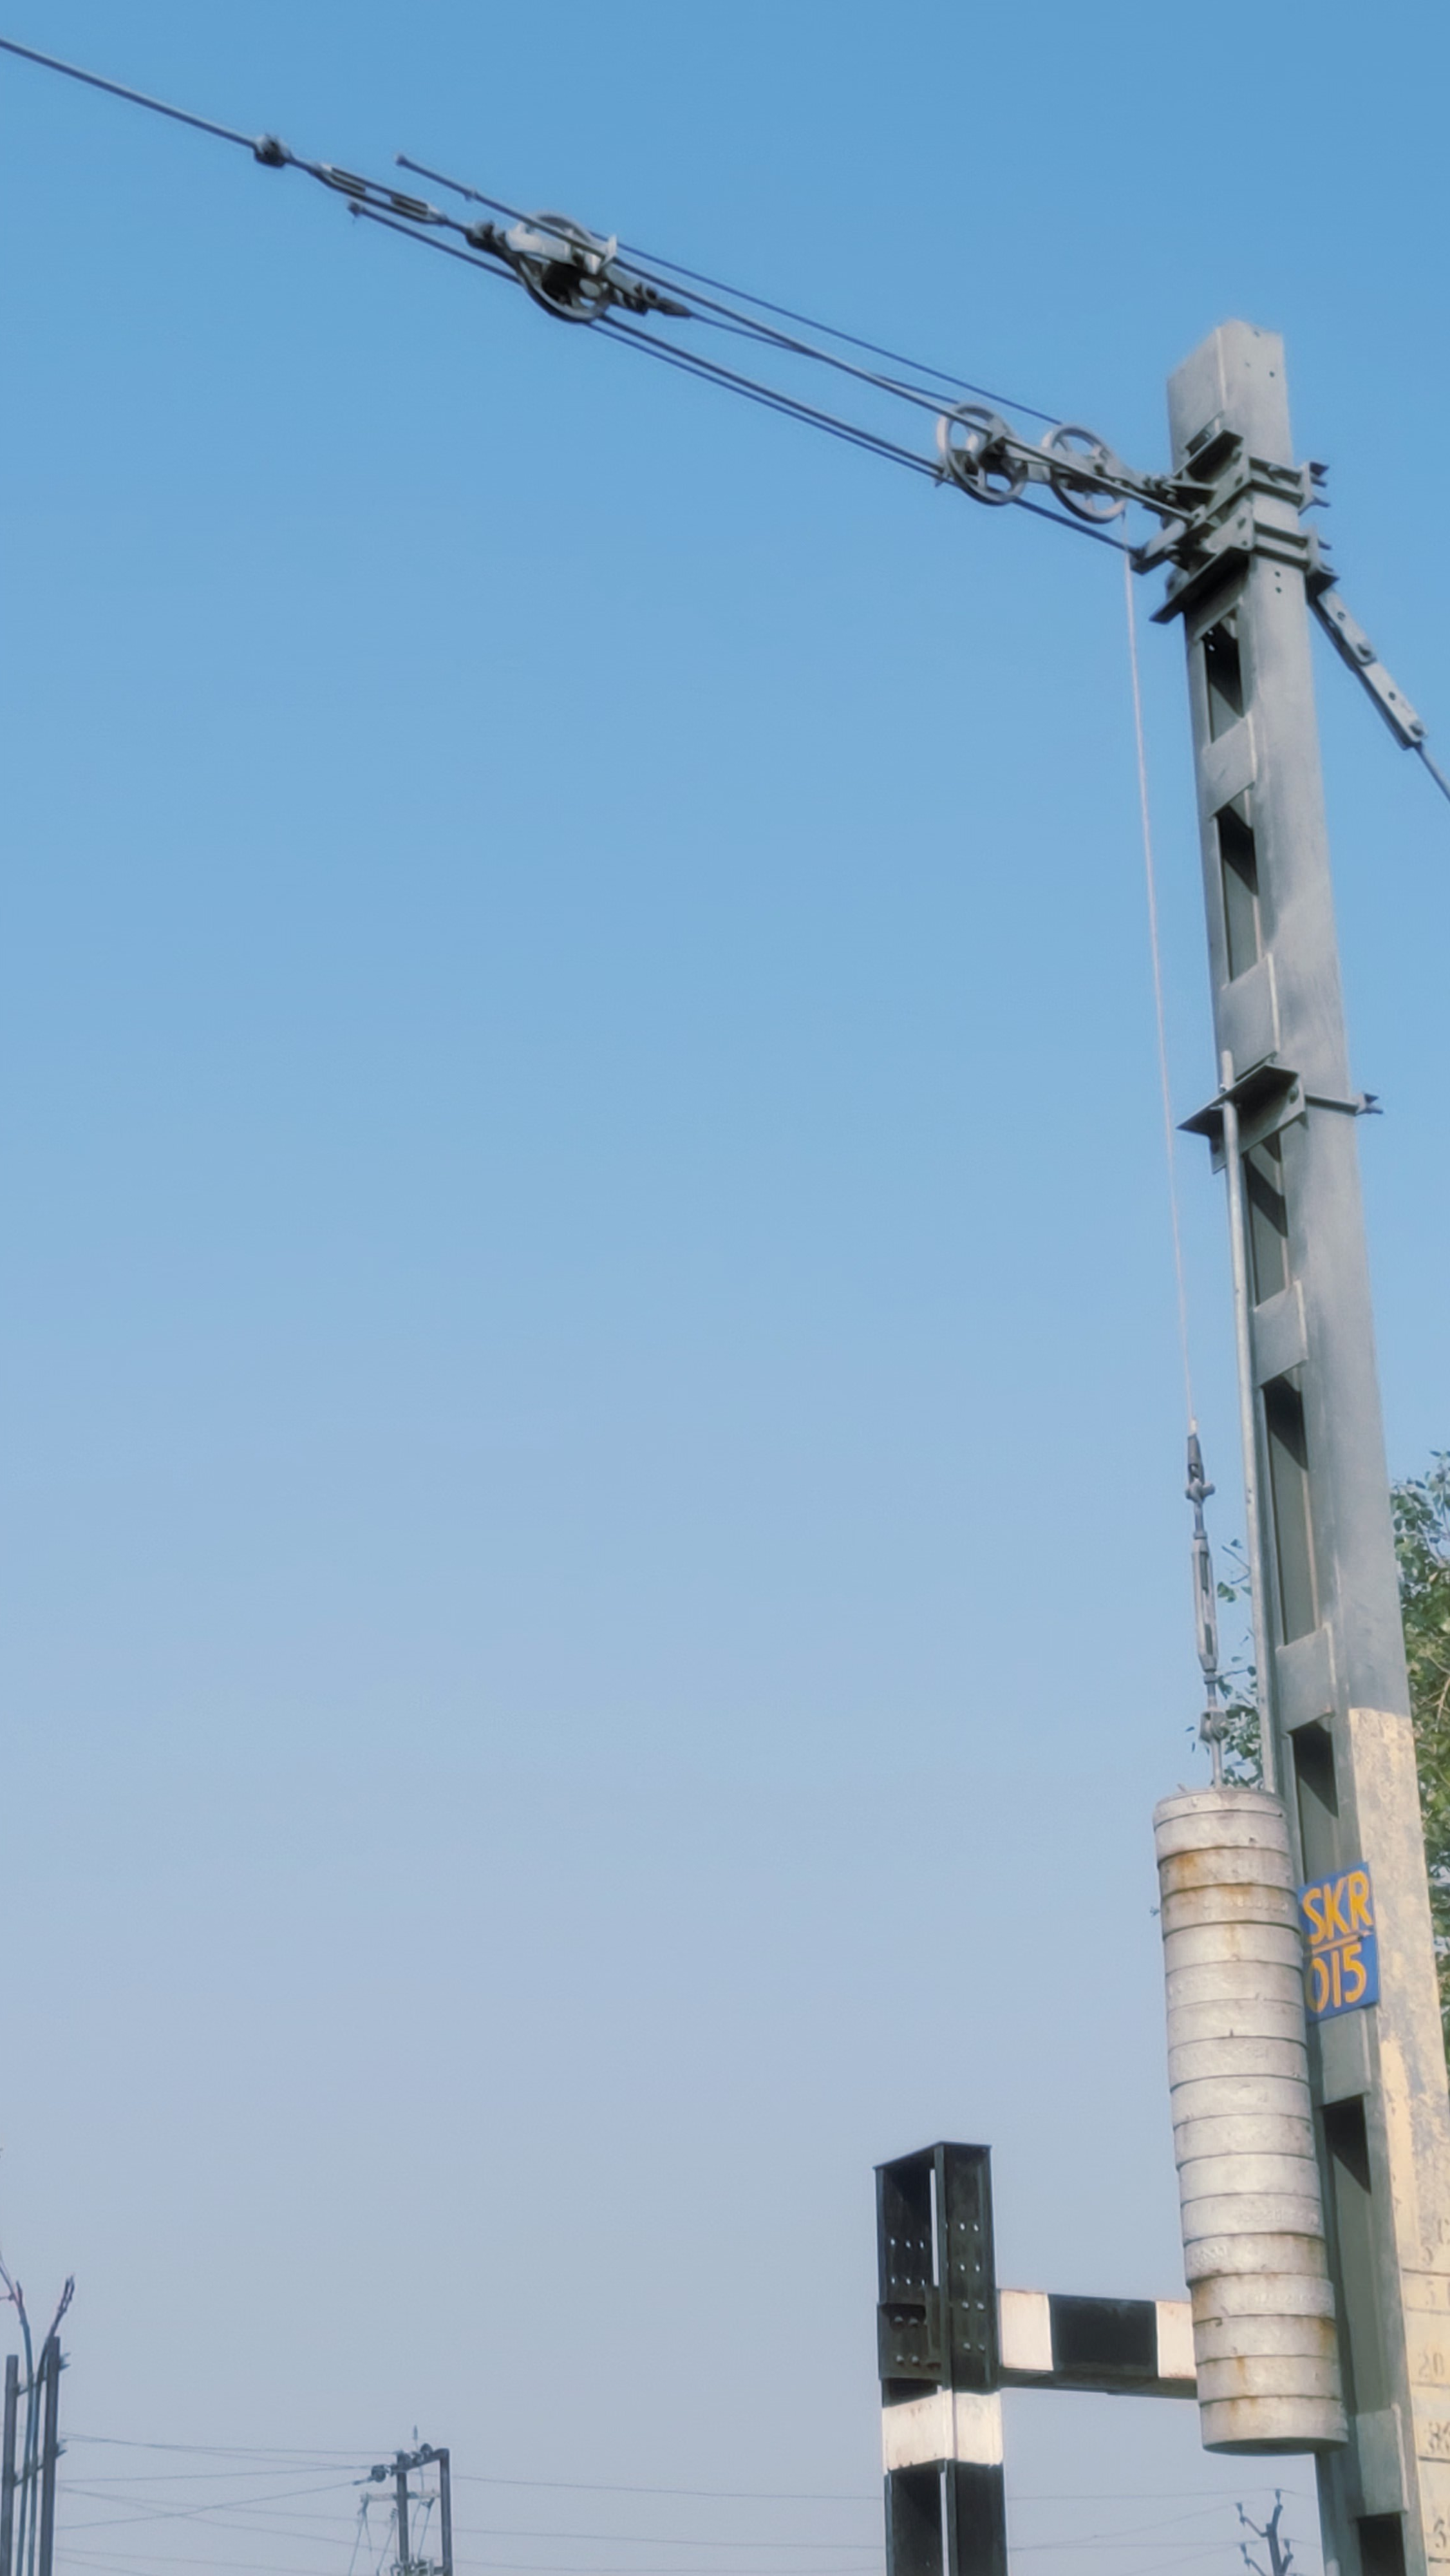counter weight: (1165, 1773, 1347, 2461)
pulley: (497, 189, 640, 343), (911, 364, 1040, 533), (1050, 393, 1139, 522)
